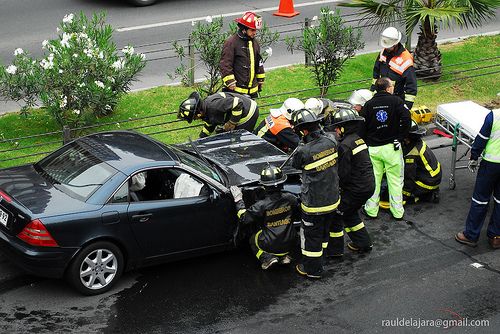helmet: (260, 163, 287, 187), (178, 100, 201, 124), (240, 9, 266, 28), (290, 112, 321, 126), (381, 26, 401, 47), (334, 109, 361, 123)
